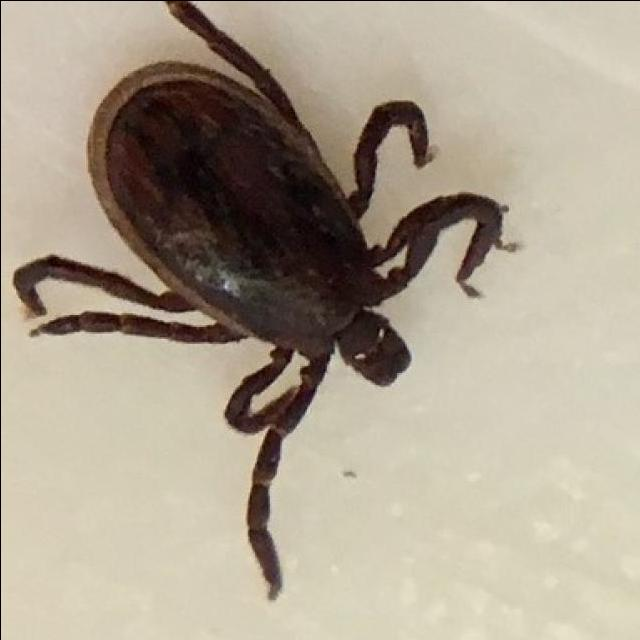Ixodes Ricinus-M: (10, 0, 511, 599)
